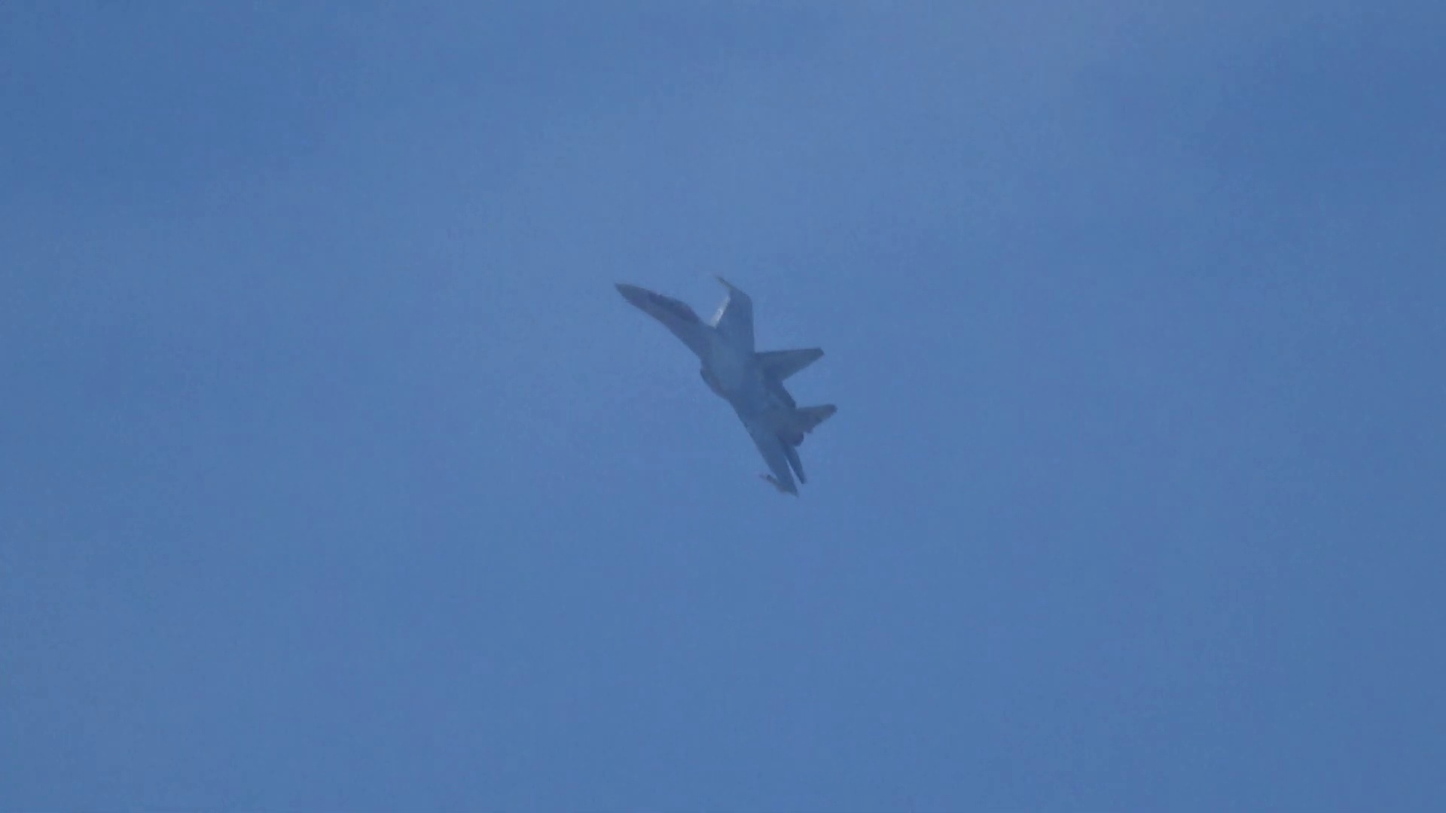Su35: (614, 276, 839, 498)
